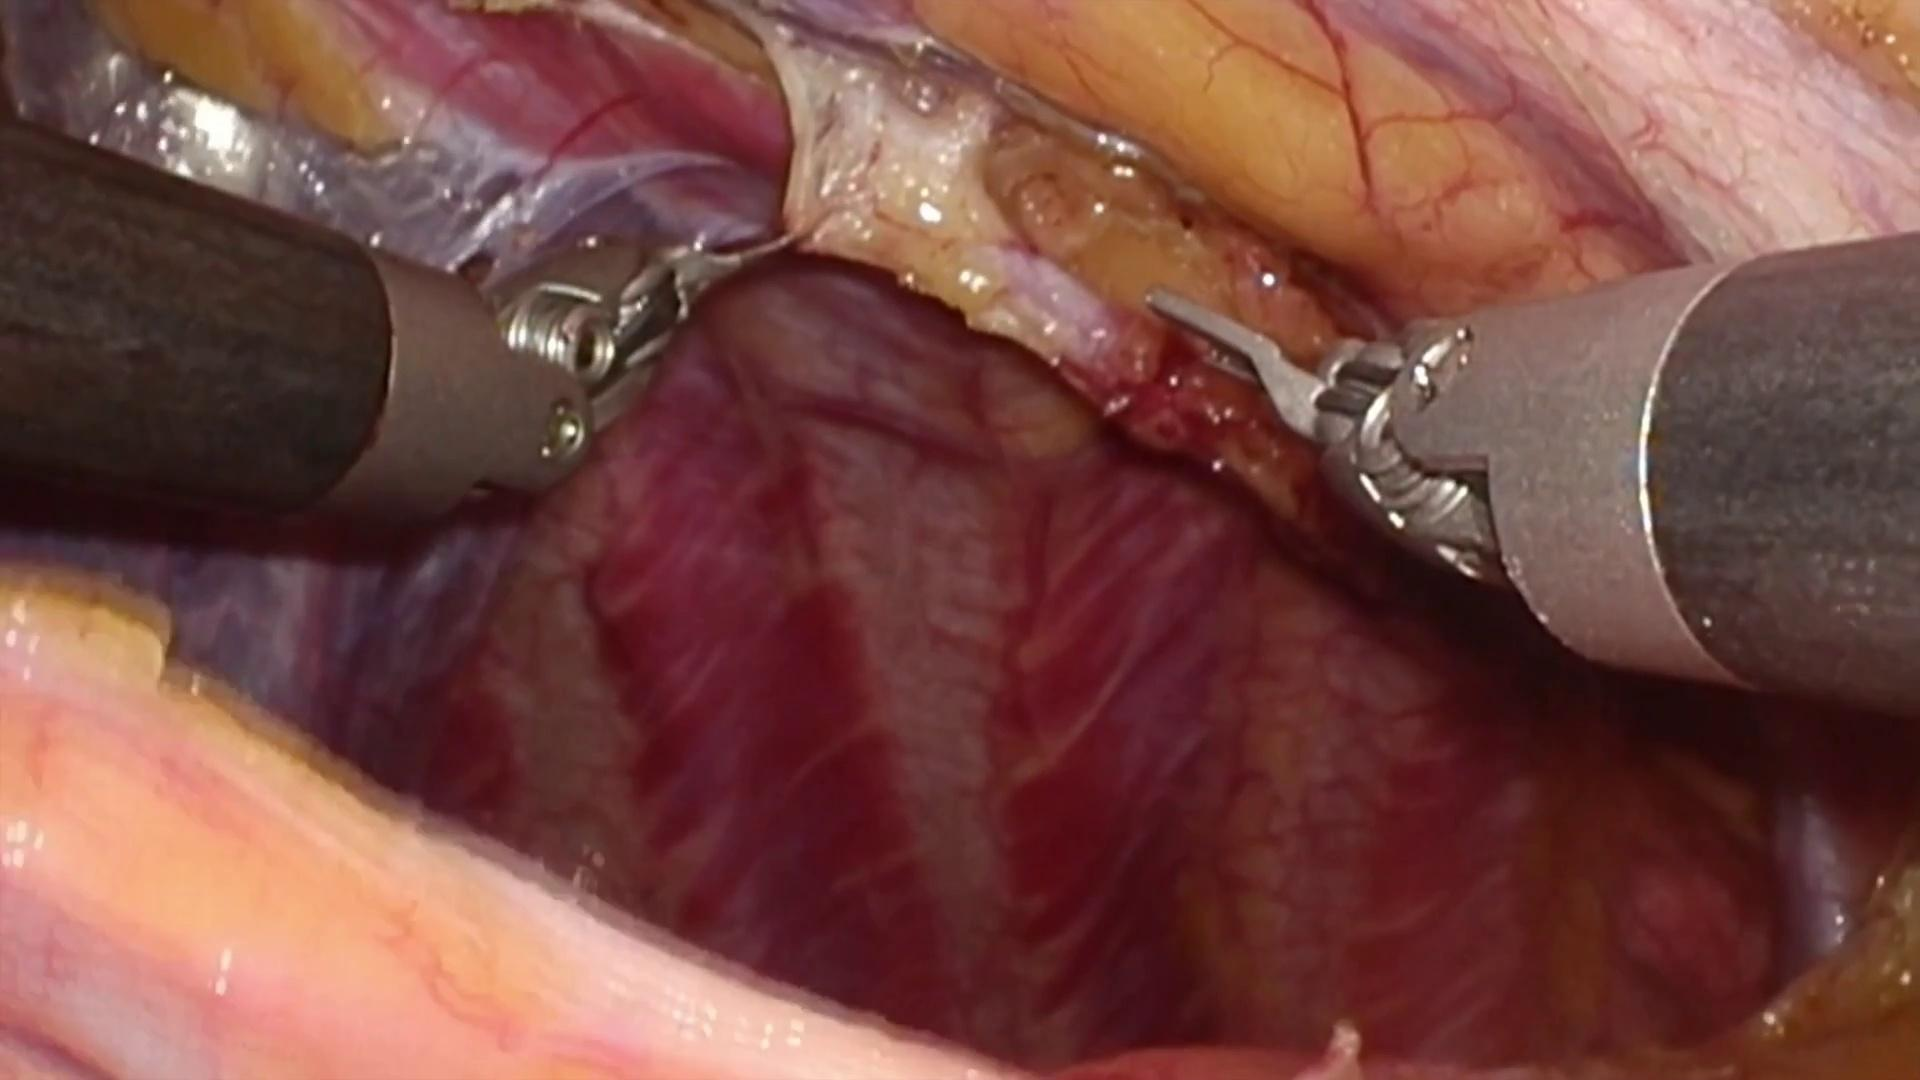Debakey: (647, 212, 819, 335)
clipper: (1145, 285, 1506, 589)
